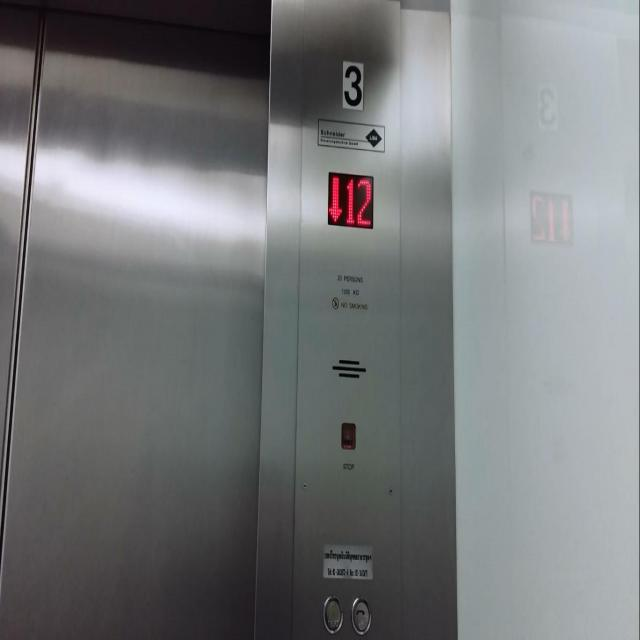alarm: (321, 592, 345, 635)
bt_switch: (339, 419, 357, 452)
call: (348, 593, 372, 637)
led: (326, 166, 374, 232)
